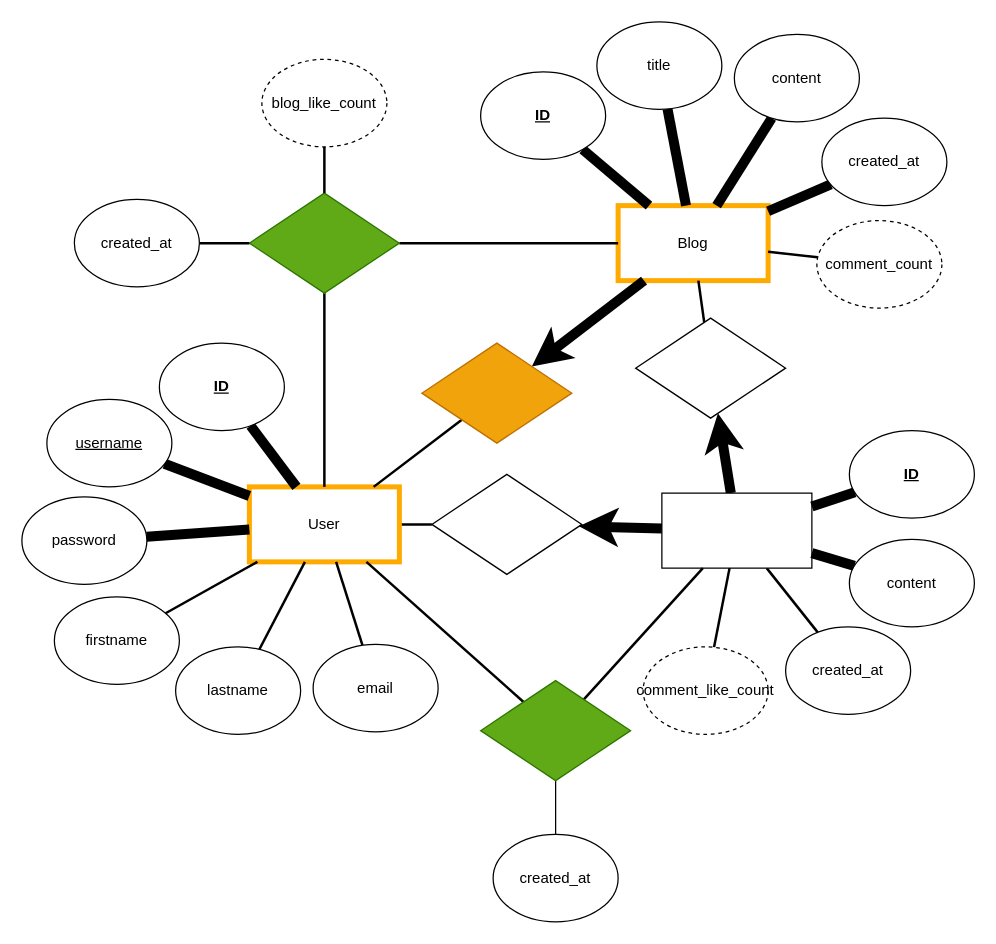
Image size: 996x944. Some labels were removed from this diagram. The shapes that lost their labels are listed below. From the top down, each one's centre as x and y in pixels, then its label:
At (323,242): "blog_likes".
At (710,367): "has".
At (496,392): "posts".
At (506,523): "writes".
At (736,530): "Comment".
At (555,730): "comment_likes".
